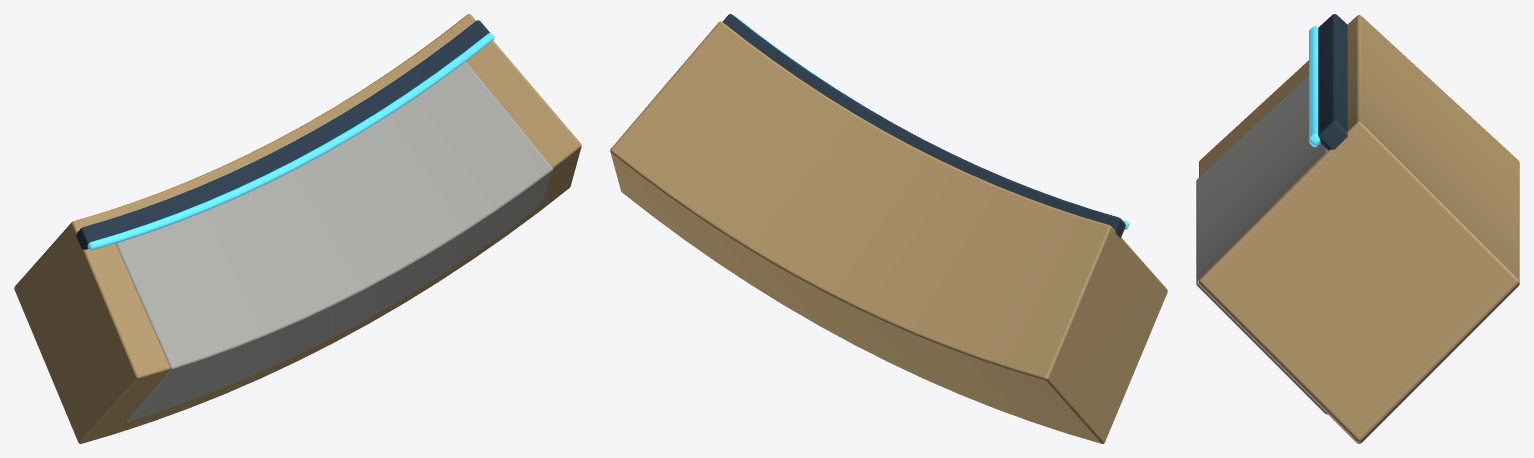
File: SM_HC2_BeatHalo_035.fbx
3 views of the same model, side by side, from view 1: azimuth 30°, elevation 25°; view 2: azimuth 150°, elevation 25°; view 3: azimuth 270°, elevation 25° (orthographic). The views are drawn at different scales.
Visible parts, largest first — view 1: SM_HC2_BeatHalo_035; view 2: SM_HC2_BeatHalo_035; view 3: SM_HC2_BeatHalo_035.
Part boxes in pixels (<box>): SM_HC2_BeatHalo_035: <box>14,14,581,443</box>; SM_HC2_BeatHalo_035: <box>610,14,1167,443</box>; SM_HC2_BeatHalo_035: <box>1196,14,1519,443</box>.
Bounding box in the file's own units: 304 × 132 × 196.
